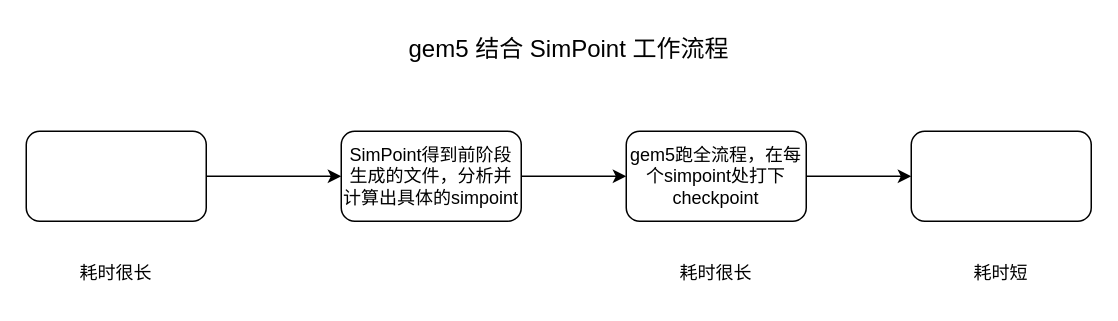
This 1118x321 diagram has some shape labels left out. The shapes that lost their labels are listed below. From the top down, each one's centre as x and y in pixels, then its label:
At point 115,175: "gem5跑一次全流程生成bbv文件".
At point 1000,175: "选择性的将gem5从各个simpoint处恢复，并进行一个interval长度的执行".
